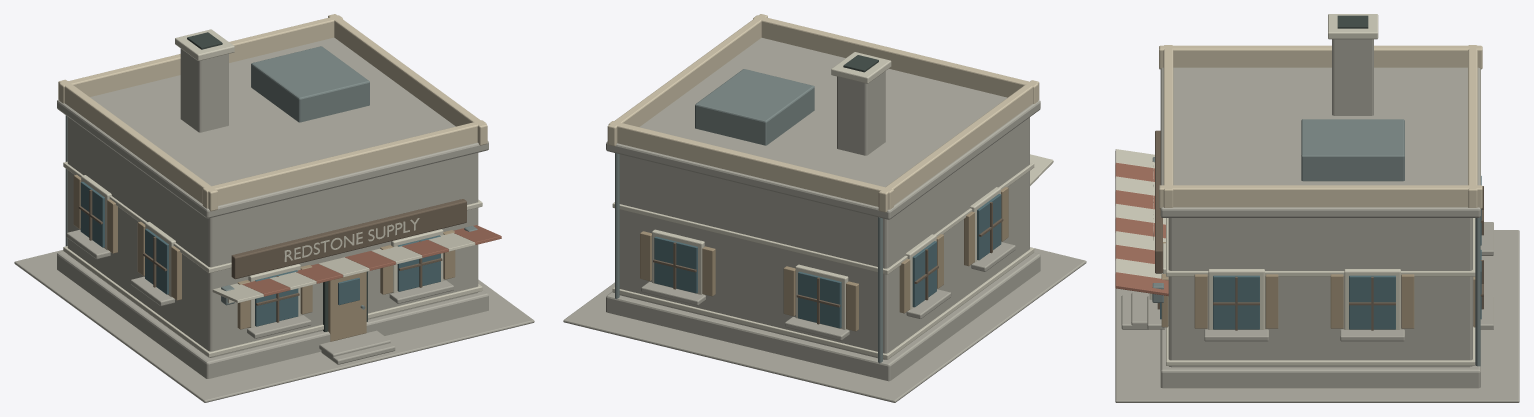
Rendered from district_art_5.glb.
3 renders of one model, left to right at view 1: azimuth 30°, elevation 25°; view 2: azimuth 150°, elevation 25°; view 3: azimuth 270°, elevation 25°, orthographic. The views are drawn at different scales.
Parts seen in each view (by area): view 1: stone, plaster, trim, metal, timber, wood, glass, cloth, dark; view 2: stone, plaster, trim, metal, glass, wood, timber; view 3: stone, plaster, trim, metal, glass, wood, cloth, timber, dark.
Part boxes in pixels (bbox=[...]): stone: bbox=[14, 37, 534, 402]; plaster: bbox=[58, 14, 487, 211]; trim: bbox=[63, 29, 482, 357]; metal: bbox=[65, 46, 477, 309]; timber: bbox=[78, 189, 466, 322]; wood: bbox=[73, 174, 455, 341]; glass: bbox=[80, 181, 440, 326]; cloth: bbox=[242, 225, 501, 296]; dark: bbox=[187, 32, 367, 331]; stone: bbox=[563, 38, 1086, 402]; plaster: bbox=[607, 14, 1039, 212]; trim: bbox=[612, 52, 1053, 359]; metal: bbox=[615, 69, 882, 363]; glass: bbox=[654, 194, 1001, 328]; wood: bbox=[640, 187, 1008, 331]; timber: bbox=[653, 202, 1003, 324]; stone: bbox=[1115, 39, 1519, 402]; plaster: bbox=[1159, 45, 1482, 208]; trim: bbox=[1115, 14, 1475, 365]; metal: bbox=[1152, 119, 1480, 366]; glass: bbox=[1160, 176, 1481, 329]; wood: bbox=[1161, 242, 1475, 328]; cloth: bbox=[1115, 162, 1168, 295]; timber: bbox=[1155, 130, 1483, 330]; dark: bbox=[1337, 15, 1368, 28].
Bounding box in the file's own units: 12.5 × 9.19 × 12.5.
